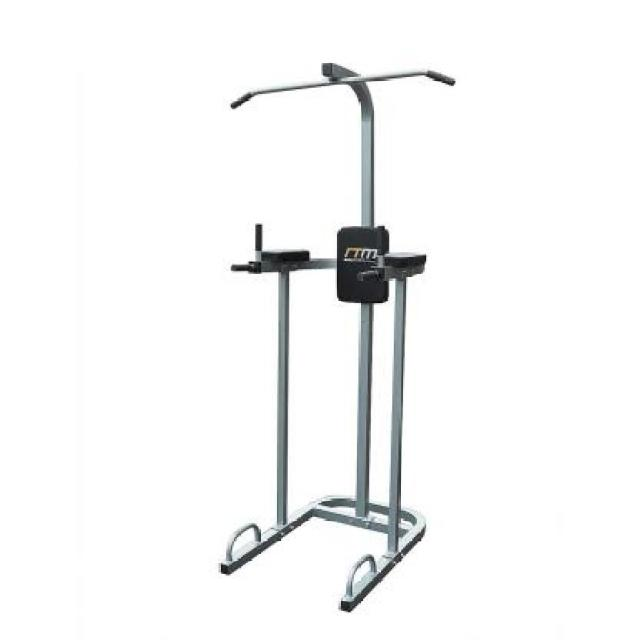chinning dipping: (218, 63, 454, 614)
